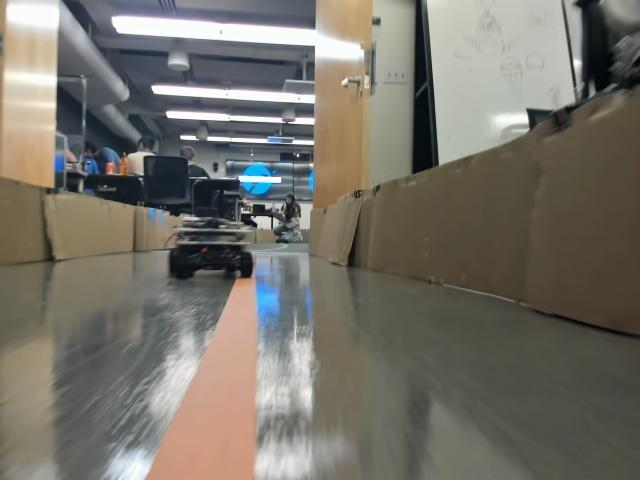Car: (169, 206, 253, 275)
